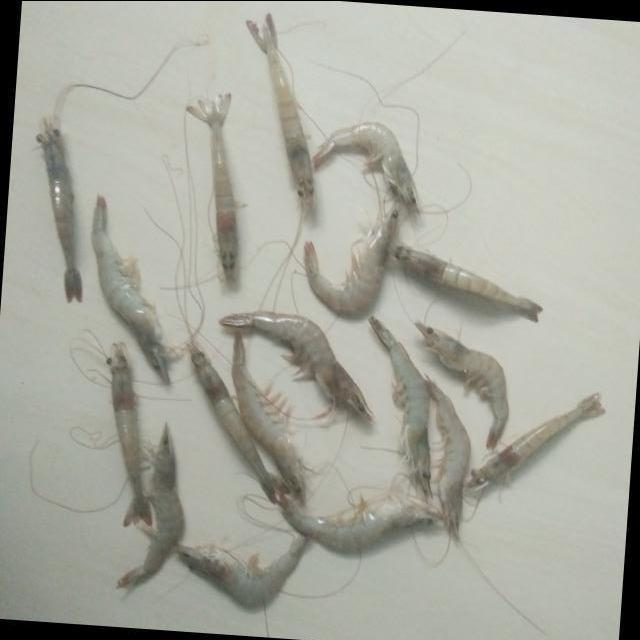shrimp: (219, 310, 373, 421), (188, 342, 290, 504), (90, 195, 169, 384), (466, 393, 605, 492), (246, 12, 315, 208), (231, 333, 305, 505), (415, 322, 509, 449), (391, 243, 543, 321), (369, 317, 431, 498), (117, 424, 183, 590), (304, 209, 397, 318), (173, 537, 310, 610), (186, 93, 238, 285), (277, 494, 444, 553), (312, 121, 419, 213), (35, 119, 81, 302), (106, 343, 151, 527), (426, 377, 471, 540)
